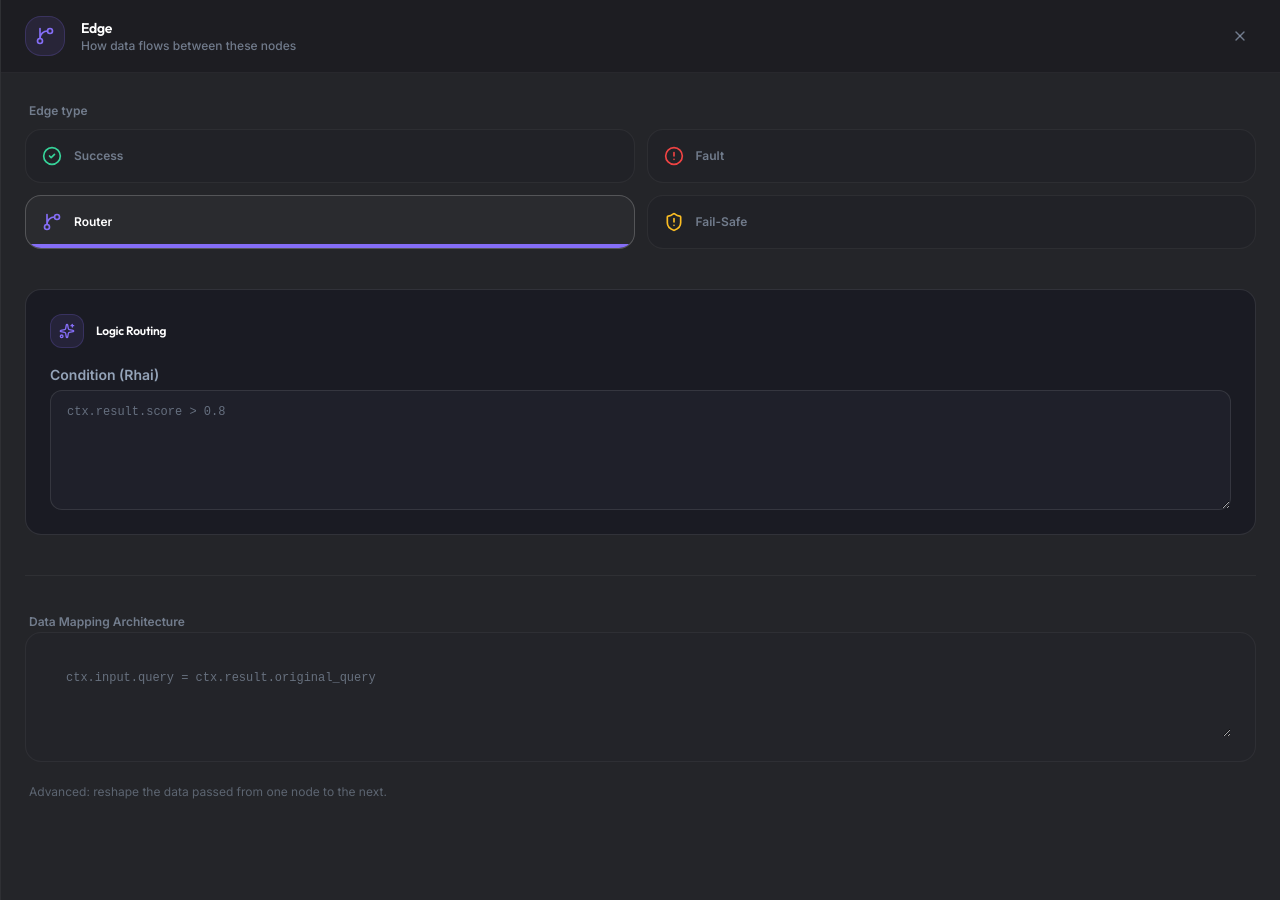
Scenario: Inspector Component › validates Rhai script in edge inspector
Expected: the text "How data flows between these nodes" is shown, [81,38,296,54]
Type "invalid script" into the text box with placeholder "ctx.result.score > 0.8" at coordinates (640, 450), box [50,390,1231,510]
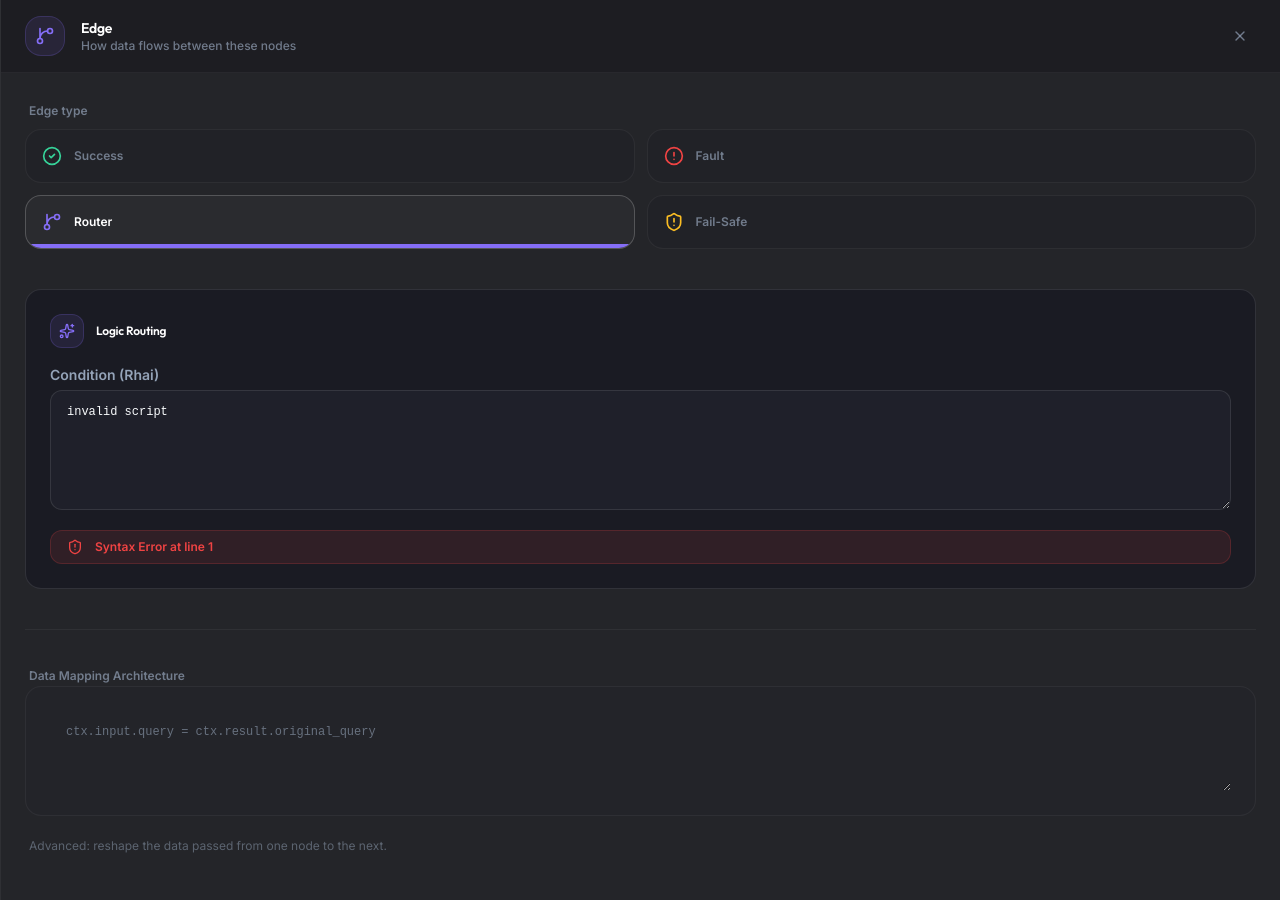
Expected: the text "Syntax Error at line 1" is shown, [95,539,213,555]
